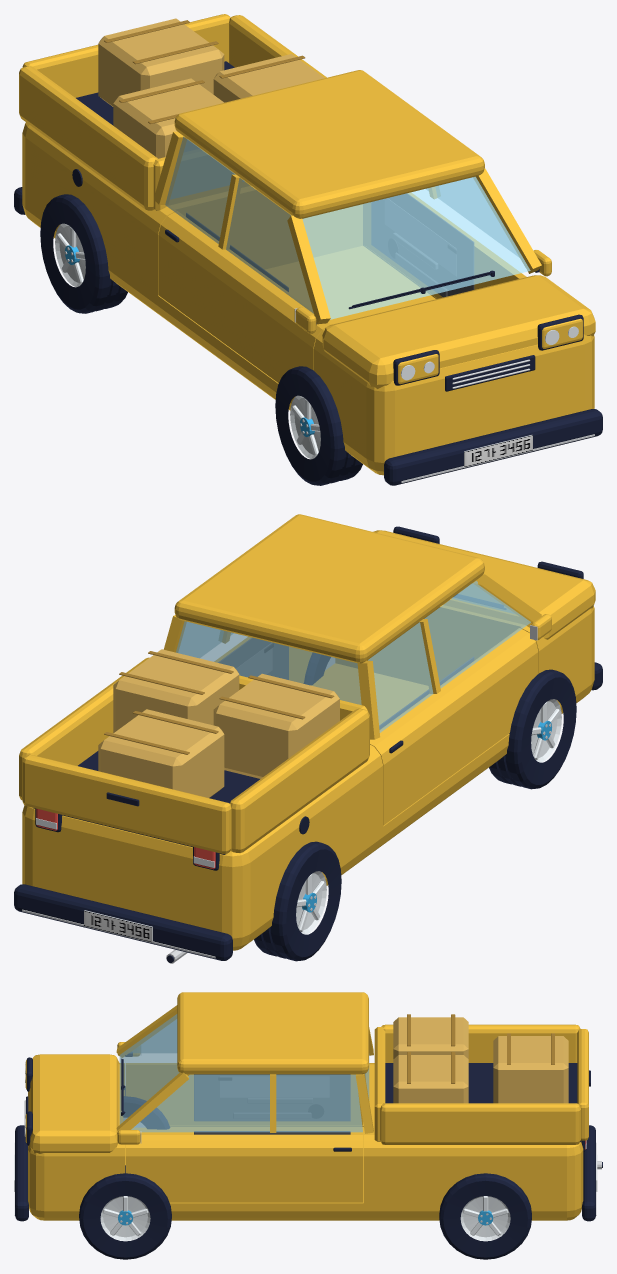
Rendered from V03_pickup_v2.glb.
The picture shows the model from 3 angles, top to bottom: view 1: azimuth 30°, elevation 25°; view 2: azimuth 150°, elevation 25°; view 3: azimuth 270°, elevation 25°; orthographic projection. The views are drawn at different scales.
Visible parts, largest first — view 1: Body, Glass, HayBales, Door_R, DoorDetail_L, Wheel_RR, Wheel_FR, Bumper_Front, Trunk, Door_L, Grille, Headlight_-1 (+3 smaller); view 2: Body, HayBales, Glass, Door_R, Trunk, Wheel_RR, Wheel_FR, Bumper_Rear, DoorDetail_L, CargoBed, LicensePlate_Rear, Door_L (+1 smaller); view 3: Body, Glass, Door_L, HayBales, DoorDetail_R, Wheel_FL, Wheel_RL, Door_R, CargoBed, Bumper_Front, Trunk, Bumper_Rear (+2 smaller).
Part boxes in pixels (x1,y1,x2,y2): Body: [19, 15, 595, 475]; Glass: [165, 136, 530, 319]; HayBales: [98, 18, 324, 158]; Door_R: [158, 211, 332, 383]; DoorDetail_L: [371, 193, 474, 297]; Wheel_RR: [40, 194, 127, 313]; Wheel_FR: [275, 366, 362, 485]; Bumper_Front: [384, 409, 602, 485]; Trunk: [22, 14, 230, 97]; Door_L: [364, 192, 526, 298]; Grille: [445, 355, 535, 391]; Headlight_-1: [393, 350, 439, 385]; Body: [19, 514, 595, 950]; HayBales: [98, 649, 339, 797]; Glass: [176, 581, 530, 732]; Door_R: [370, 621, 538, 825]; Trunk: [22, 754, 231, 854]; Wheel_RR: [254, 841, 341, 961]; Wheel_FR: [489, 669, 576, 789]; Bumper_Rear: [14, 884, 232, 960]; DoorDetail_L: [218, 638, 288, 679]; CargoBed: [33, 751, 259, 854]; LicensePlate_Rear: [84, 910, 152, 942]; Door_L: [214, 637, 311, 683]; Body: [28, 992, 583, 1220]; Glass: [119, 1014, 369, 1132]; Door_L: [125, 1134, 362, 1202]; HayBales: [393, 1014, 568, 1103]; DoorDetail_R: [194, 1074, 350, 1120]; Wheel_FL: [79, 1165, 171, 1259]; Wheel_RL: [439, 1173, 531, 1259]; Door_R: [126, 1063, 362, 1125]; CargoBed: [385, 1063, 580, 1142]; Bumper_Front: [14, 1125, 28, 1221]; Trunk: [577, 1029, 590, 1140]; Bumper_Rear: [582, 1125, 596, 1221].
Bounding box in the file's own units: 1.87 × 1.8 × 5.07.
13 materials, 1 textured.
